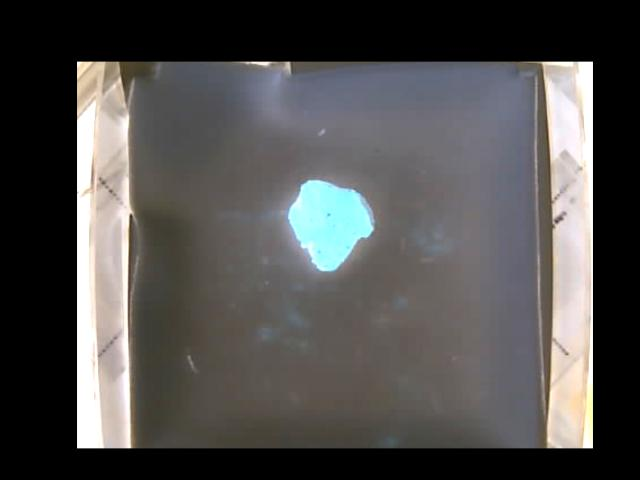Brisk: (288, 178, 372, 269)
